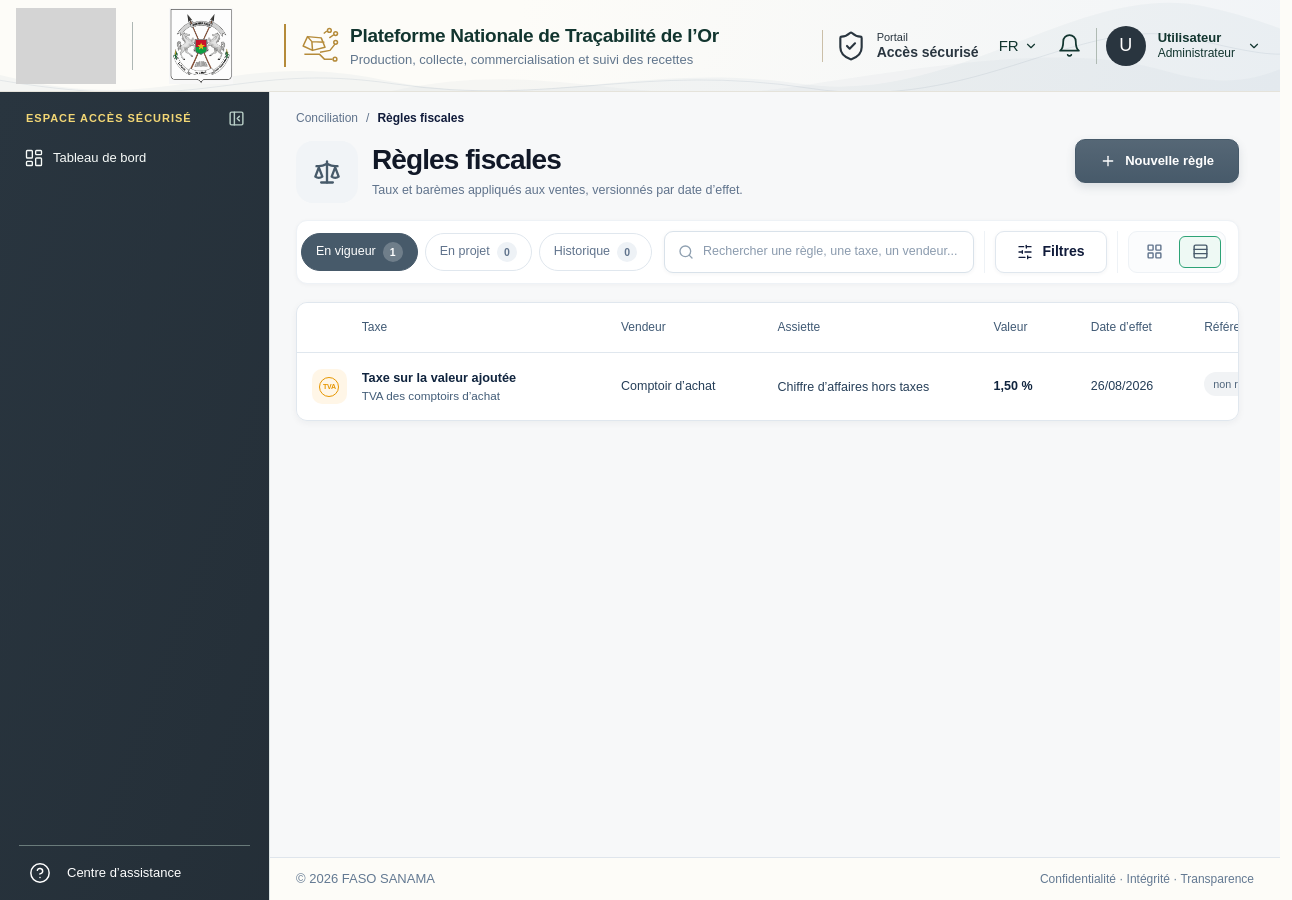
ReglesFiscalesPage › conserve le workflow de création existant
This screenshot has width=1292, height=900.
Click the button "Nouvelle règle".
click(1157, 161)  # box [1075,139,1239,183]
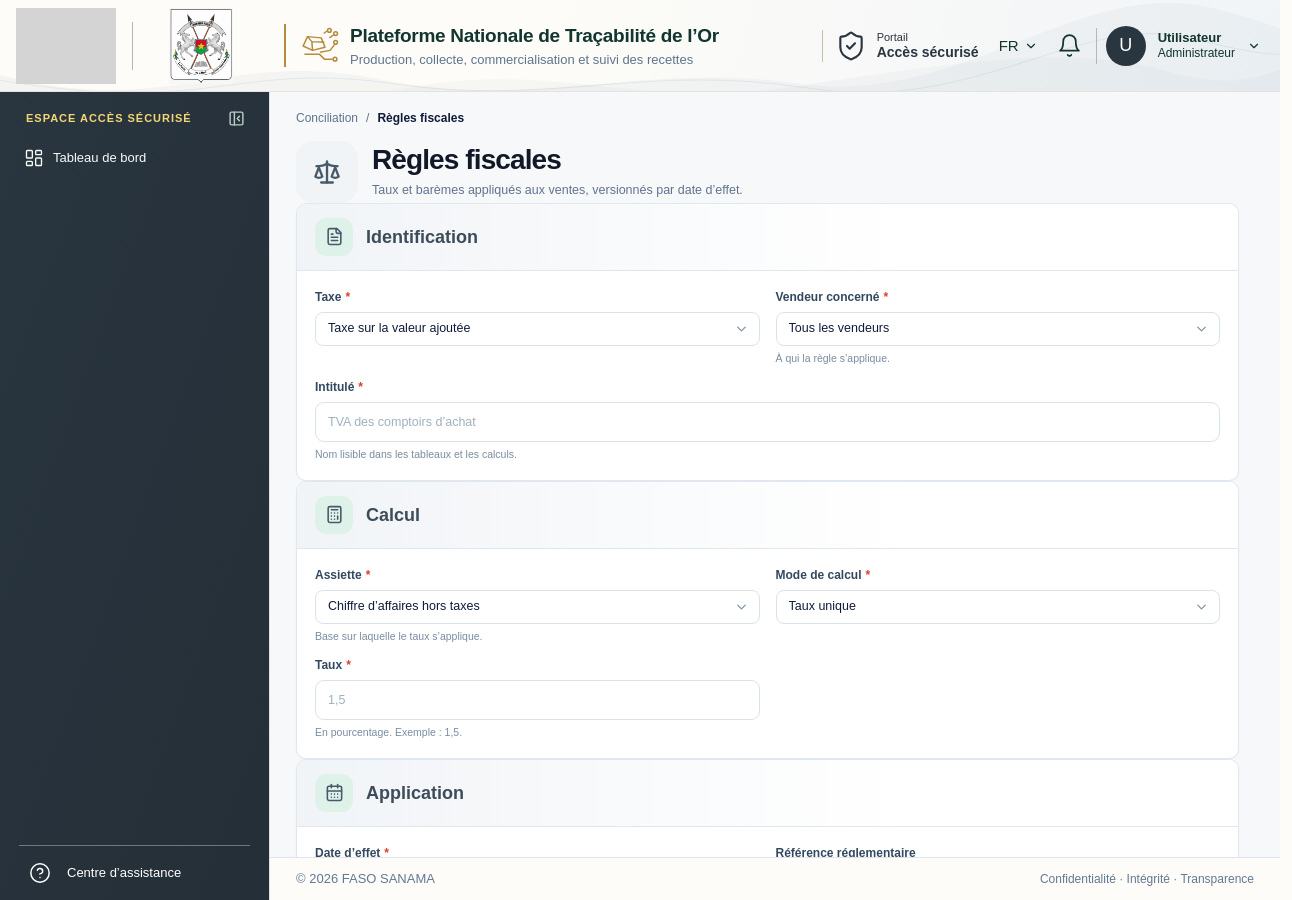
Check: the heading "Identification" is shown, box [366,223,478,251]
Check: the dropdown named "Taxe concernée" is shown, box [315,312,760,346]
Check: the table is gone
